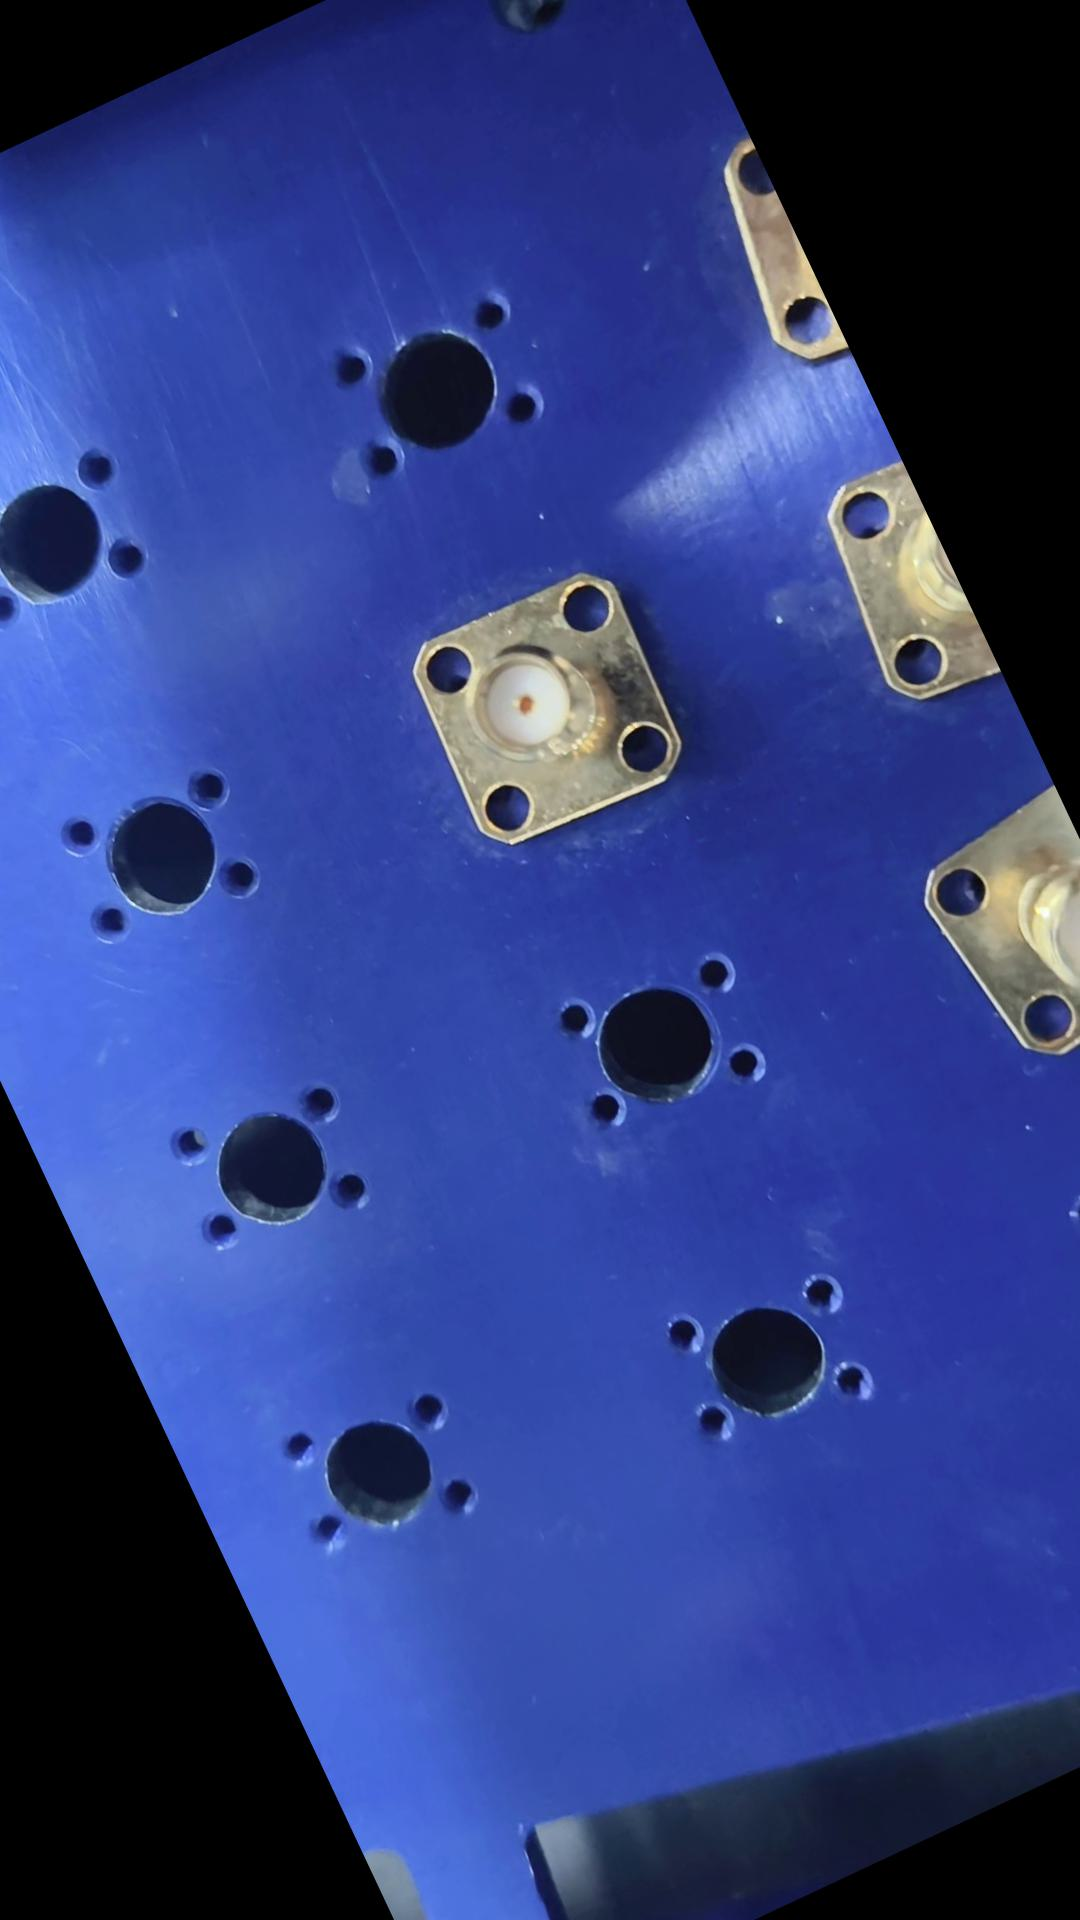SMA: (392, 558, 705, 866)
